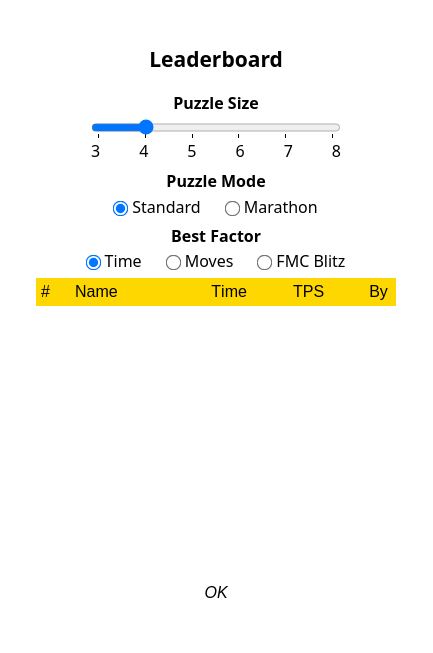
Test: LeaderBoard › factorChoices / bestType resets › resets bestType away from fmc blitz when switching to marathon
Click the text "FMC Blitz" at x=311, y=261, box [276,249,345,273]
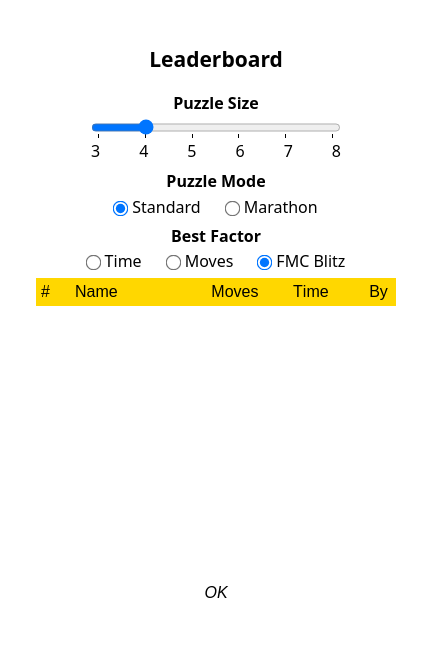
Click the text "Marathon" at x=281, y=207, box [244,195,318,219]
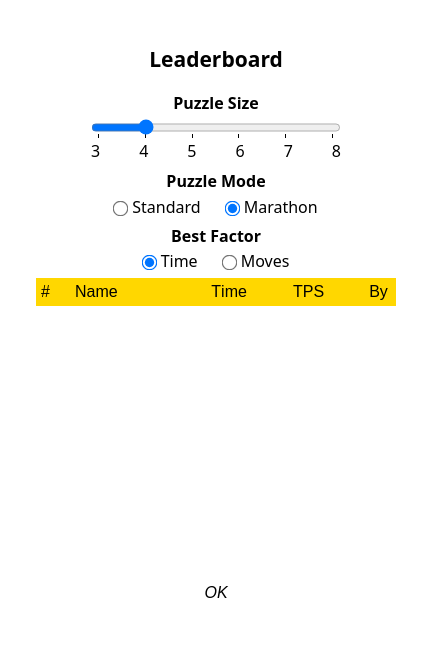
Check: the column heading "Time" is shown, box [206,278,288,306]
